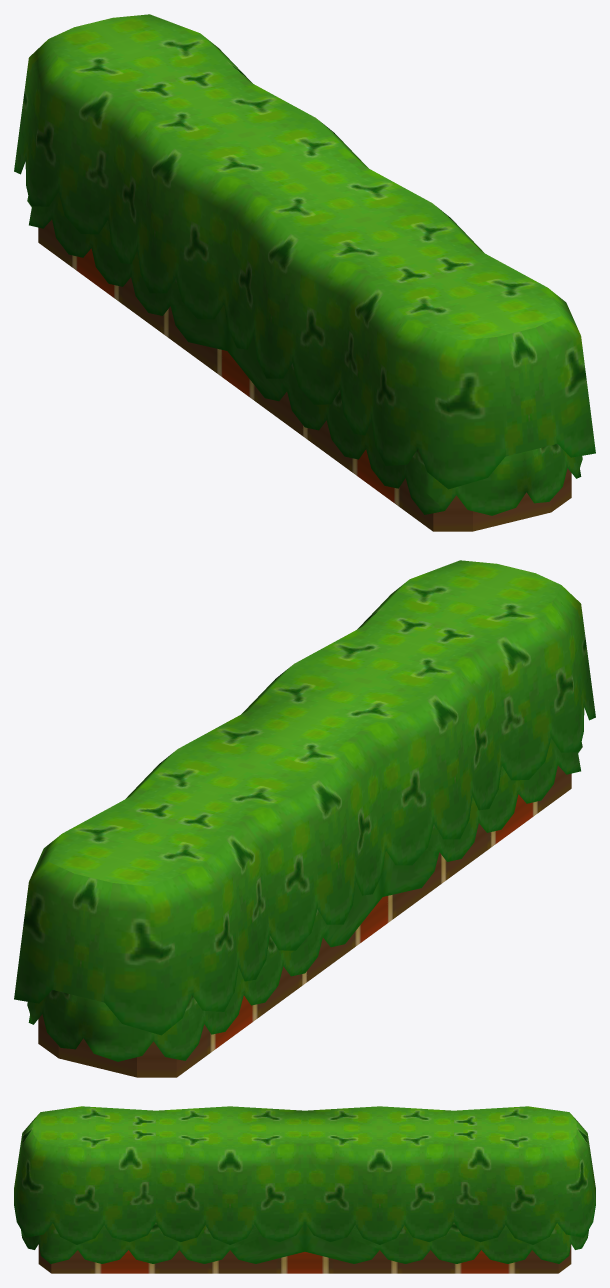
Rendered from grass_wall.fbx.
The picture shows the model from 3 angles, top to bottom: view 1: azimuth 30°, elevation 25°; view 2: azimuth 150°, elevation 25°; view 3: azimuth 270°, elevation 25°; orthographic projection. The views are drawn at different scales.
Parts seen in each view (by area): view 1: lobj_ggs_castle00_00_01_0; view 2: lobj_ggs_castle00_00_01_0; view 3: lobj_ggs_castle00_00_01_0.
Boxes of the visible parts, x1=… form: lobj_ggs_castle00_00_01_0: x1=14, y1=14, x2=595, y2=531; lobj_ggs_castle00_00_01_0: x1=14, y1=560, x2=595, y2=1077; lobj_ggs_castle00_00_01_0: x1=14, y1=1106, x2=595, y2=1273.
Bounding box in the file's own units: 0.0656 × 0.0625 × 0.266.
